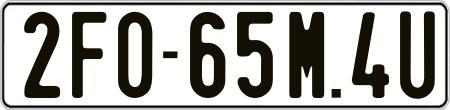0: (116, 11, 155, 97)
2: (22, 12, 62, 102)
4: (350, 12, 389, 102)
5: (237, 12, 279, 101)
6: (188, 10, 229, 101)
F: (69, 9, 103, 99)
M: (286, 11, 325, 99)
U: (398, 11, 433, 100)
